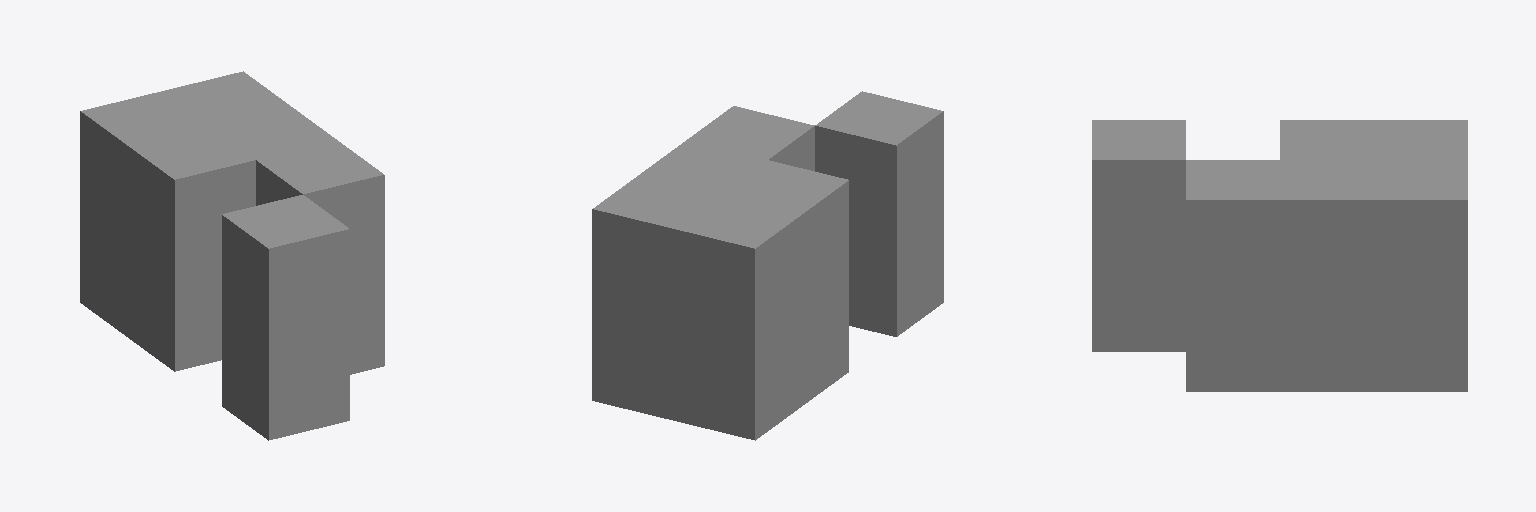
File: High_Comma.obj
3 renders of one model, left to right at view 1: azimuth 30°, elevation 25°; view 2: azimuth 150°, elevation 25°; view 3: azimuth 270°, elevation 25°, orthographic.
Parts seen in each view (by area): view 1: High_Comma_CUABC.039; view 2: High_Comma_CUABC.039; view 3: High_Comma_CUABC.039.
Boxes of the visible parts, x1,y1,x2,y2 form: High_Comma_CUABC.039: [80, 71, 384, 440]; High_Comma_CUABC.039: [592, 91, 943, 440]; High_Comma_CUABC.039: [1092, 120, 1467, 391].
Size of the model in its own units: 0.2222 by 0.25 by 0.4444.